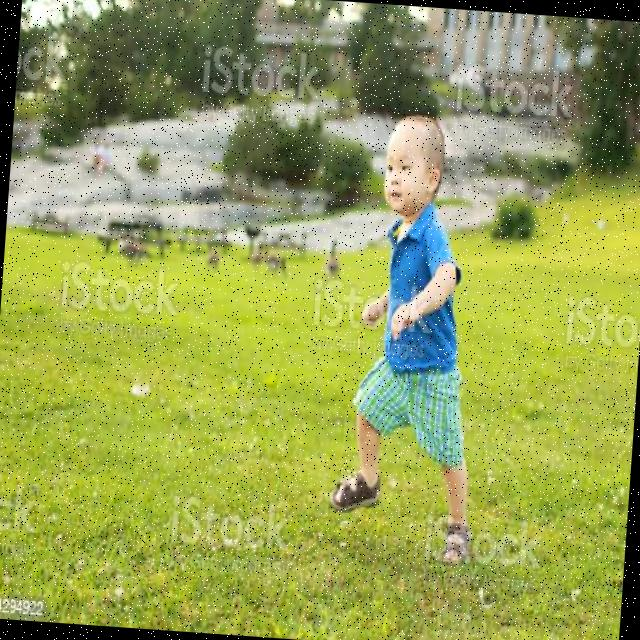Person: (329, 110, 496, 566)
